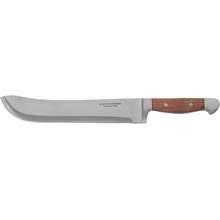knives: (1, 36, 220, 157)
